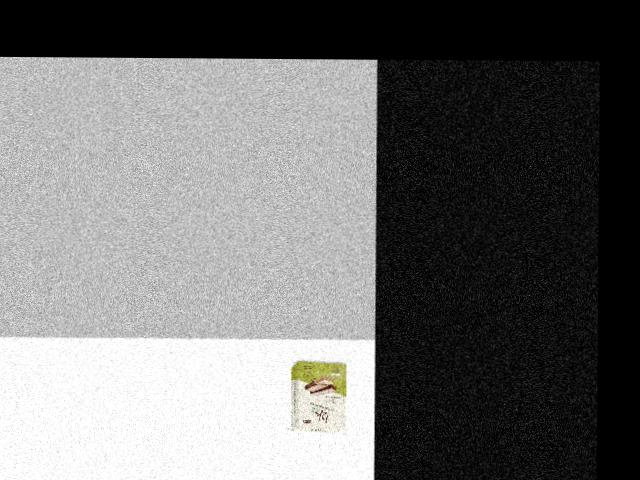chocolate: (286, 358, 347, 433)
